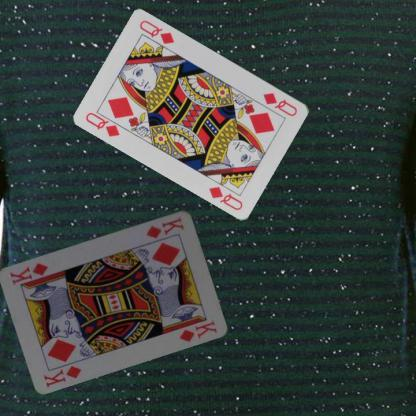Kd: (144, 214, 186, 239), (41, 363, 83, 388)
Qd: (83, 108, 128, 138), (261, 89, 299, 118)
